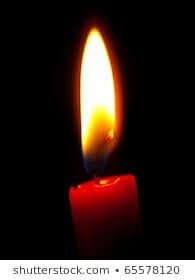fire: (76, 25, 120, 155)
